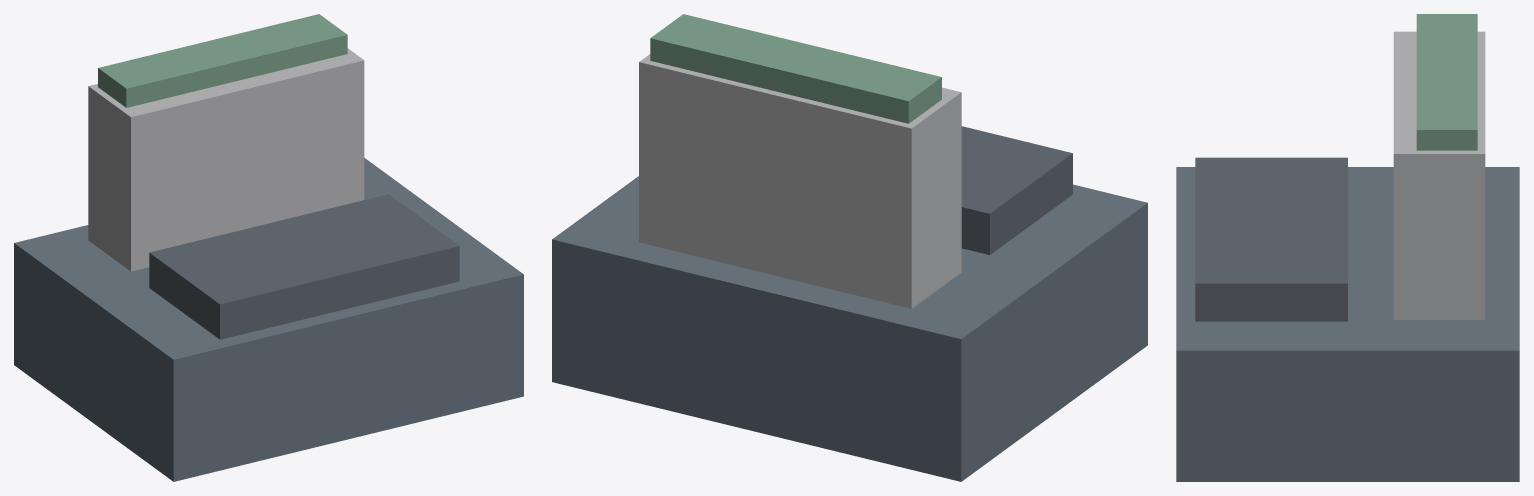
The model's file is caja_registradora.glb.
3 renders of one model, left to right at view 1: azimuth 30°, elevation 25°; view 2: azimuth 150°, elevation 25°; view 3: azimuth 270°, elevation 25°, orthographic. The views are drawn at different scales.
Visible parts, largest first — view 1: caja_registradora_00, caja_registradora_01, caja_registradora_03, caja_registradora_02; view 2: caja_registradora_00, caja_registradora_01, caja_registradora_02, caja_registradora_03; view 3: caja_registradora_00, caja_registradora_03, caja_registradora_01, caja_registradora_02.
Boxes of the visible parts, <box> form: caja_registradora_00: <box>14,158,523,481</box>; caja_registradora_01: <box>88,48,364,271</box>; caja_registradora_03: <box>149,194,459,339</box>; caja_registradora_02: <box>98,14,347,107</box>; caja_registradora_00: <box>552,176,1147,481</box>; caja_registradora_01: <box>639,54,961,308</box>; caja_registradora_02: <box>650,14,941,123</box>; caja_registradora_03: <box>961,126,1072,254</box>; caja_registradora_00: <box>1176,167,1519,481</box>; caja_registradora_03: <box>1195,157,1347,321</box>; caja_registradora_01: <box>1393,31,1485,319</box>; caja_registradora_02: <box>1416,14,1477,150</box>.
Size of the model in its own units: 0.57 by 0.46 by 0.45.
